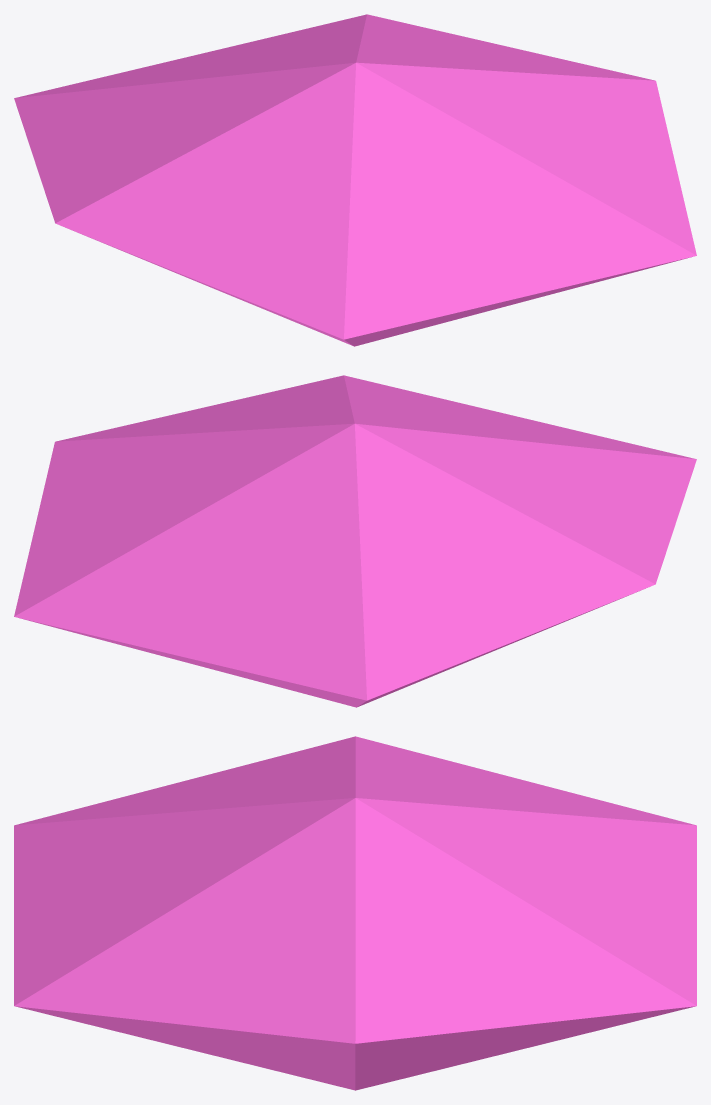
File: Ruby.fbx
The picture shows the model from 3 angles, top to bottom: view 1: azimuth 30°, elevation 25°; view 2: azimuth 150°, elevation 25°; view 3: azimuth 270°, elevation 25°; orthographic projection. The views are drawn at different scales.
Parts seen in each view (by area): view 1: Ruby; view 2: Ruby; view 3: Ruby.
Boxes of the visible parts, x1,y1,x2,y2 form: Ruby: [14, 14, 696, 346]; Ruby: [14, 375, 696, 707]; Ruby: [14, 736, 696, 1090].
Size of the model in its own units: 44.37 by 20.01 by 42.2.
